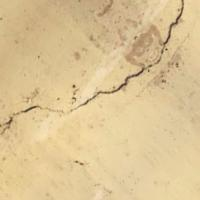crack: (2, 1, 185, 156)
